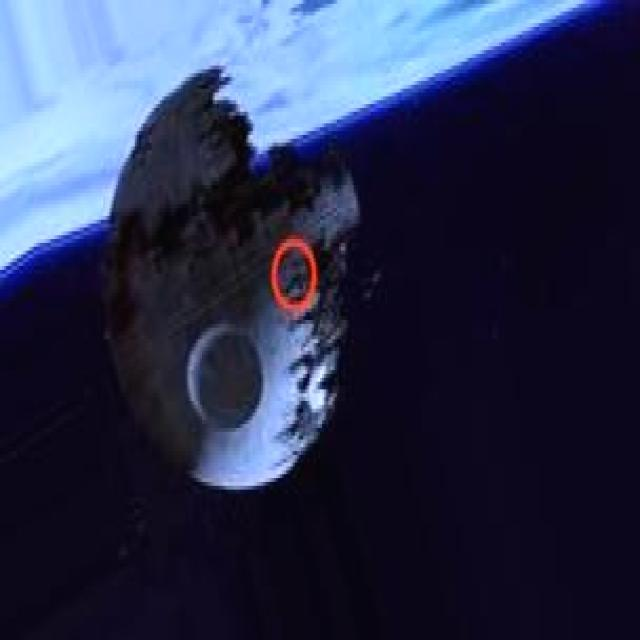deathstar: (106, 58, 366, 494)
